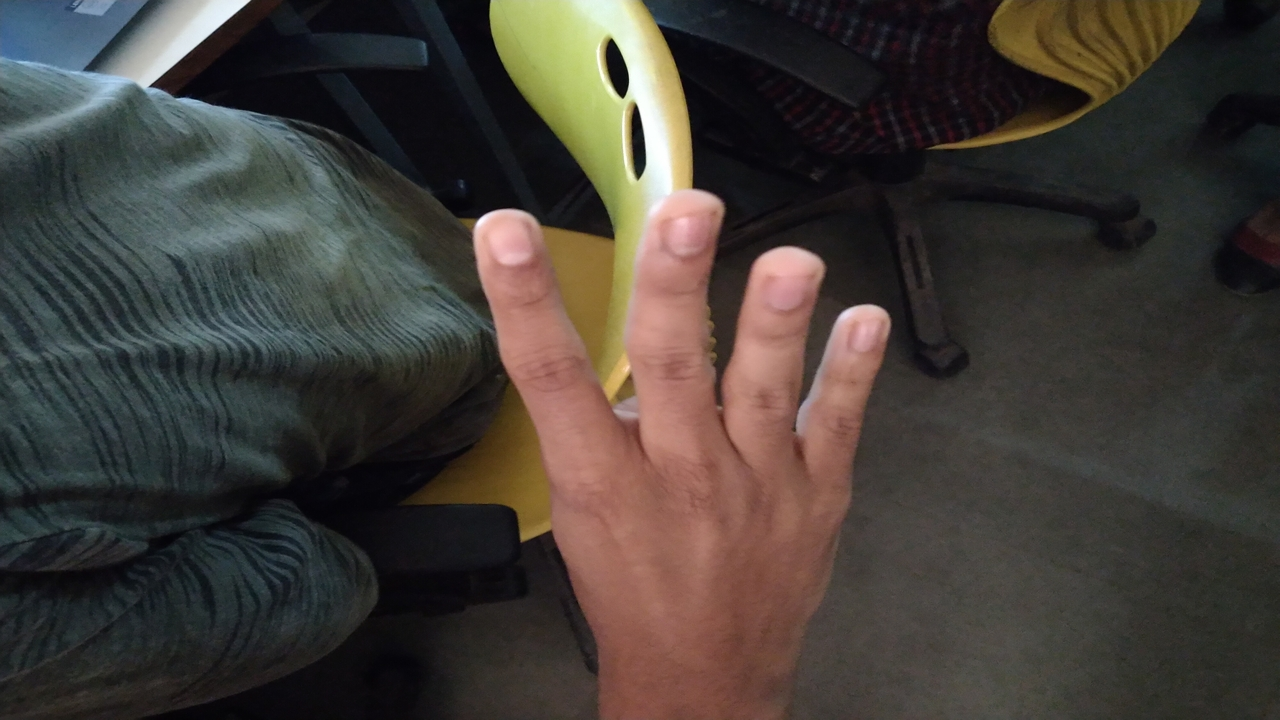fingertip: (744, 242, 836, 320), (462, 202, 550, 280), (634, 190, 726, 260), (830, 300, 894, 368)
